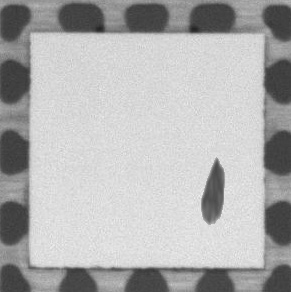DIE_INK: (197, 149, 225, 232)
